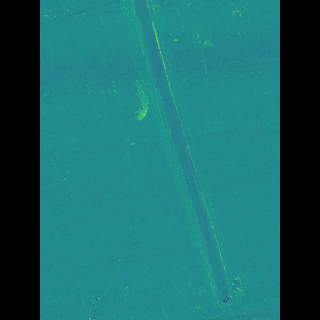Loch: (130, 0, 225, 306)
